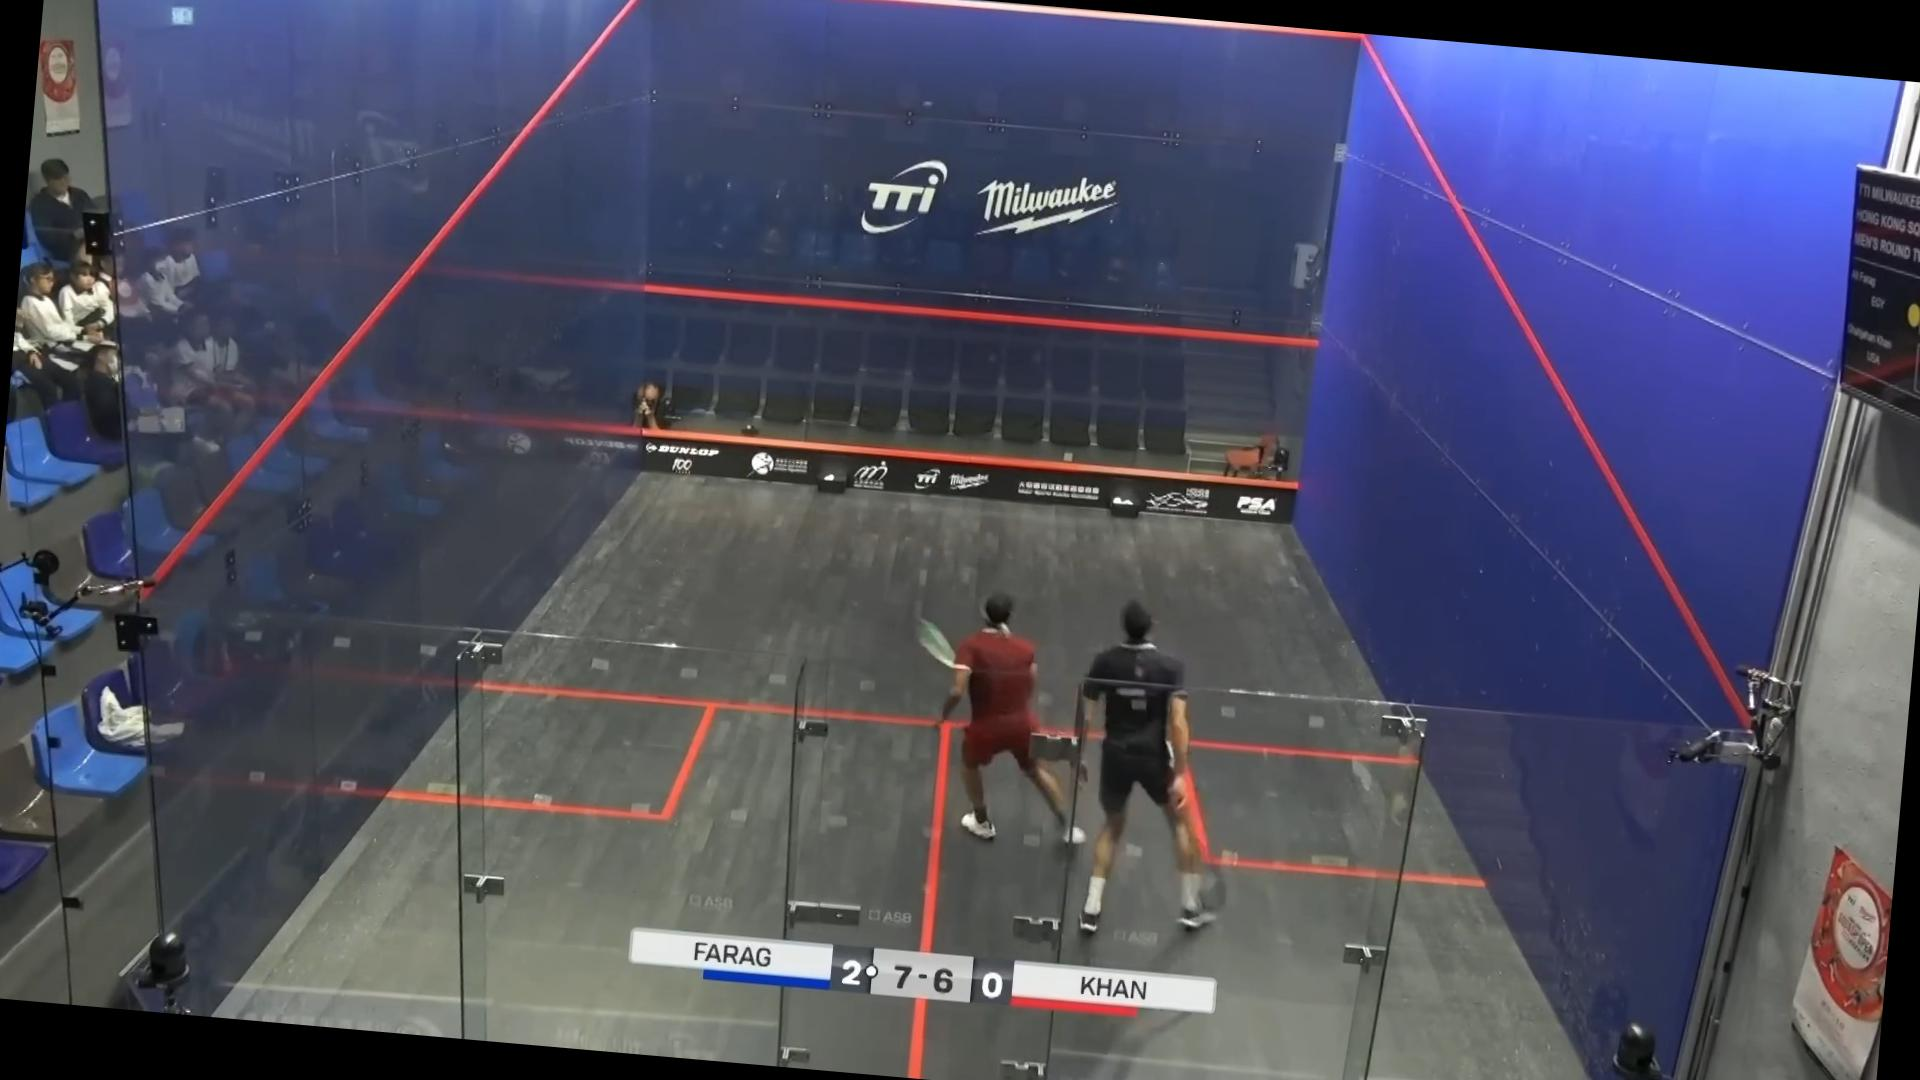Racket: (905, 611, 959, 669)
